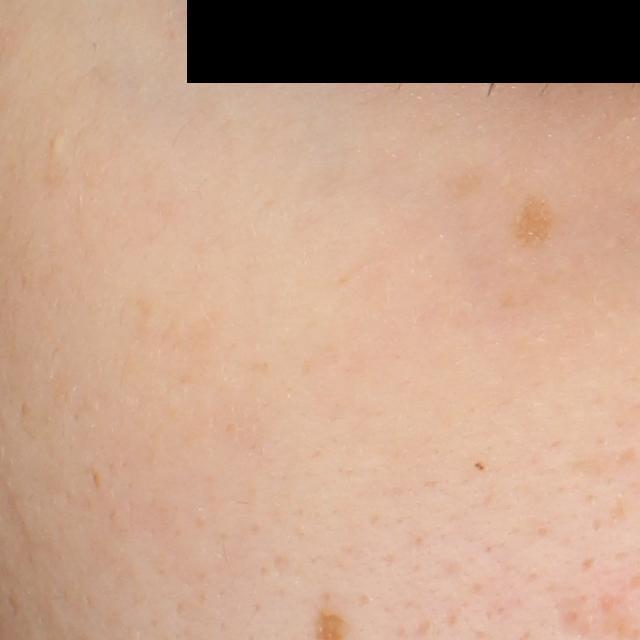comedo: (48, 133, 65, 155)
melasma: (510, 192, 560, 253)
